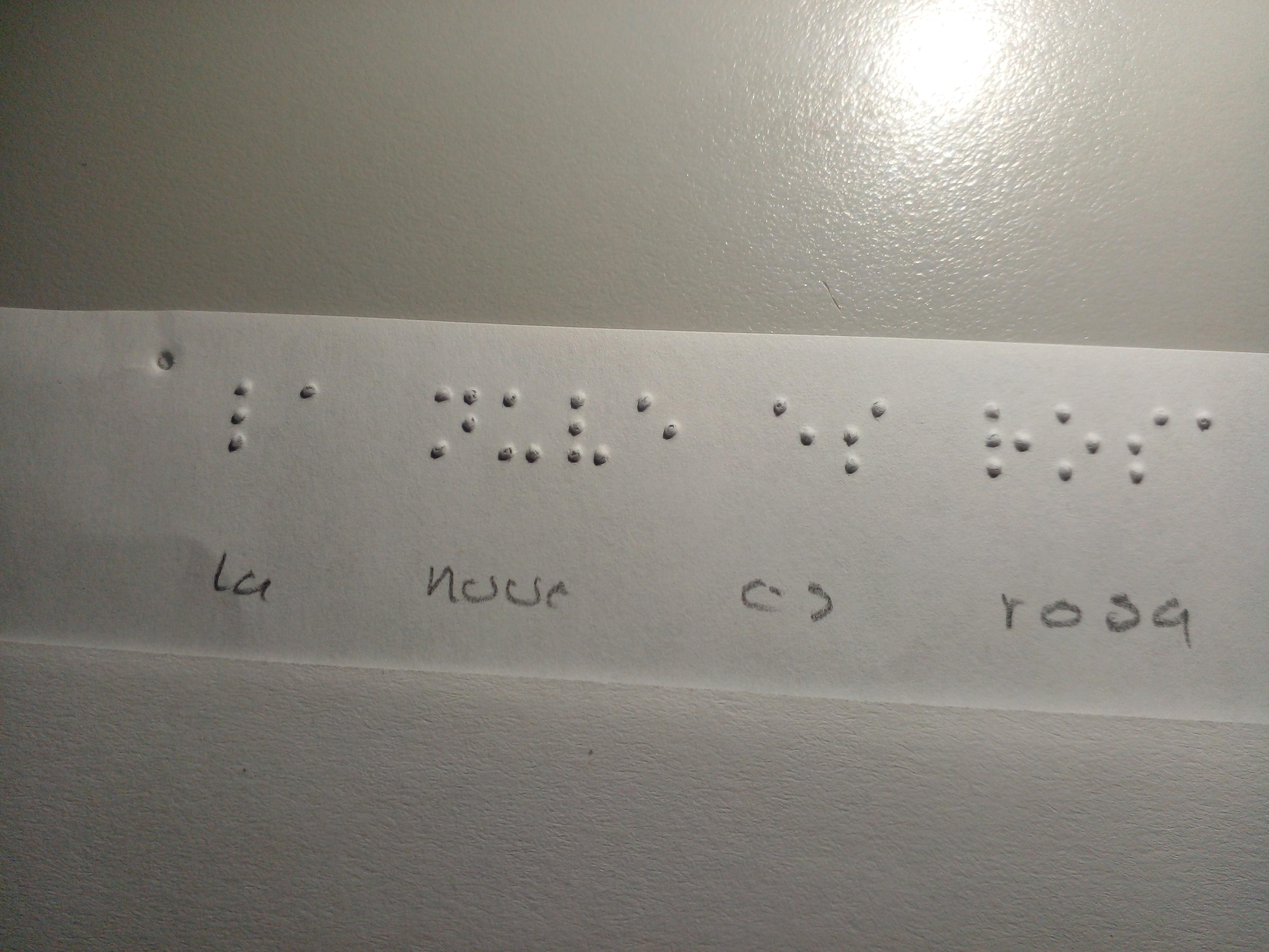a: (276, 364, 335, 429), (1183, 394, 1222, 463)
e: (765, 392, 823, 471), (627, 389, 685, 463)
l: (228, 364, 256, 457)
n: (428, 375, 485, 468)
o: (1043, 390, 1111, 494)
r: (973, 397, 1033, 491)
s: (835, 395, 897, 485), (1118, 397, 1179, 485)
u: (496, 386, 547, 483)
v: (556, 394, 617, 477)
